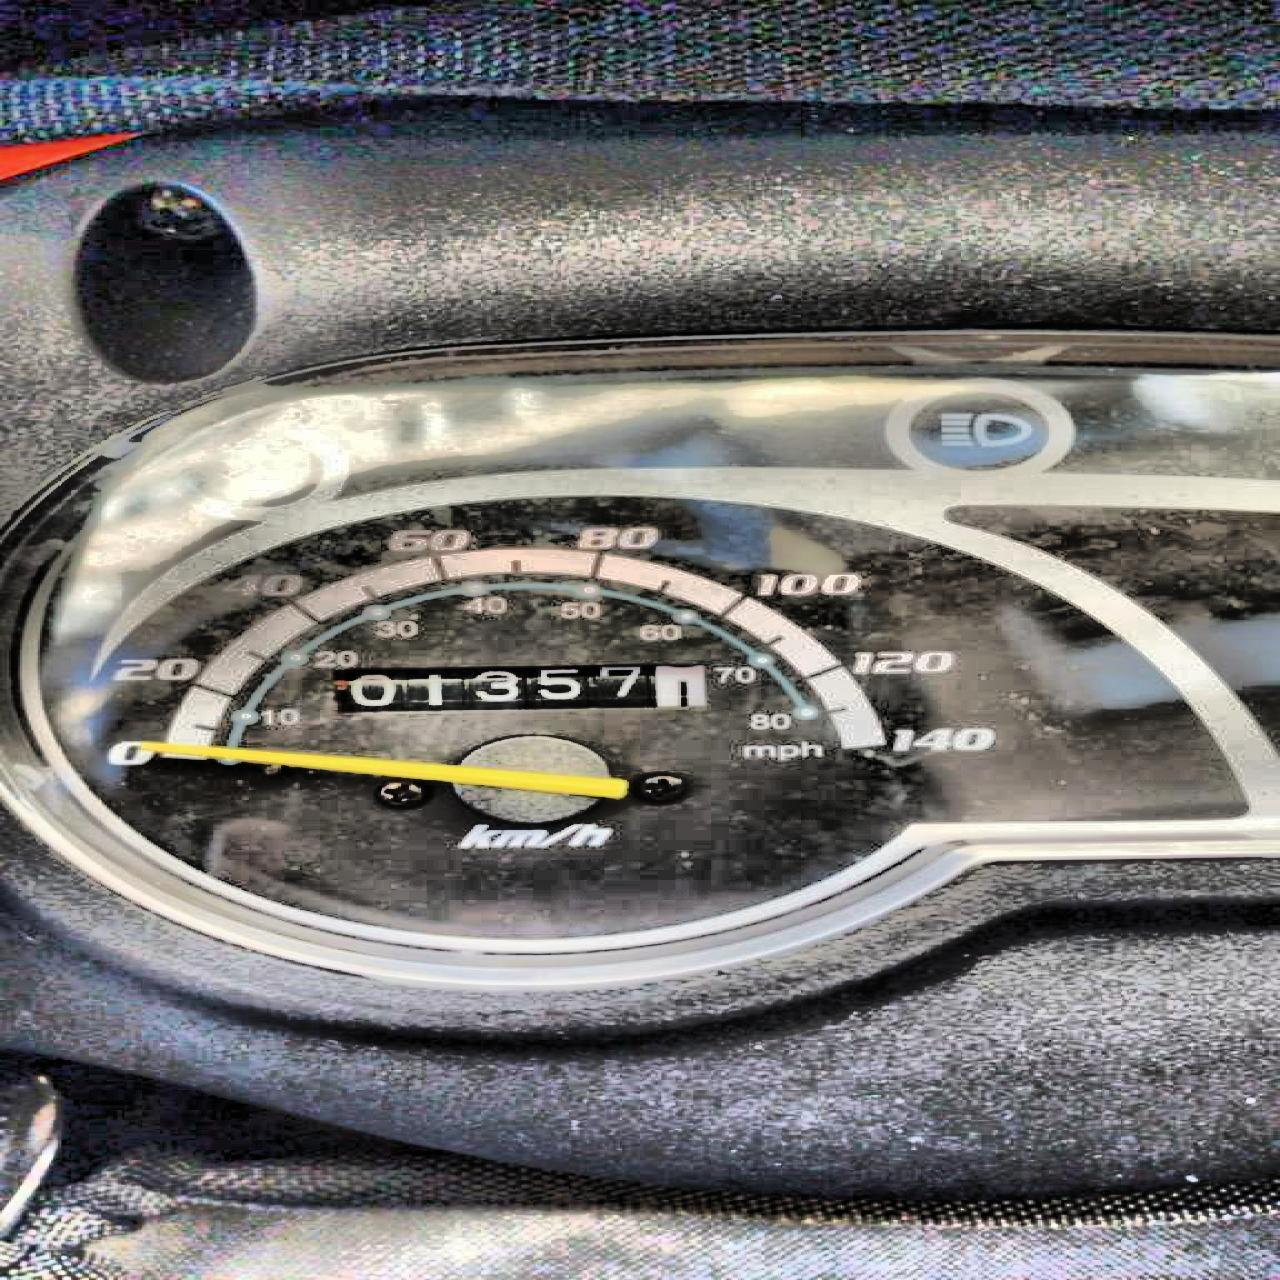0: (349, 673, 393, 706)
1: (424, 673, 440, 706), (675, 679, 687, 707)
3: (471, 669, 518, 700)
5: (536, 667, 578, 699)
7: (598, 665, 640, 695)
odometer: (327, 665, 715, 714)
